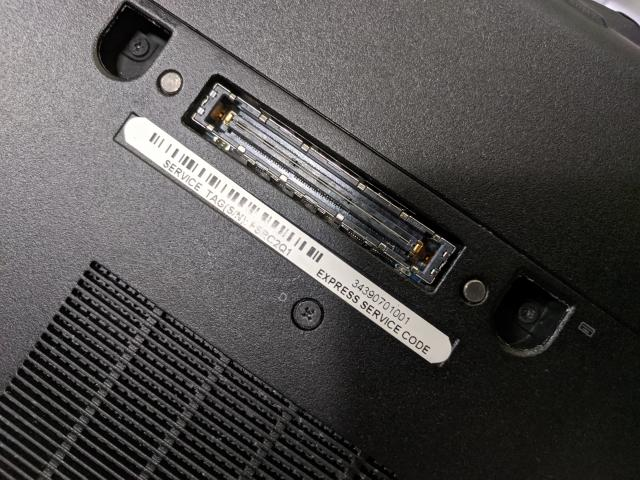CRS: (292, 296, 326, 330), (518, 300, 541, 325), (128, 35, 152, 58)
